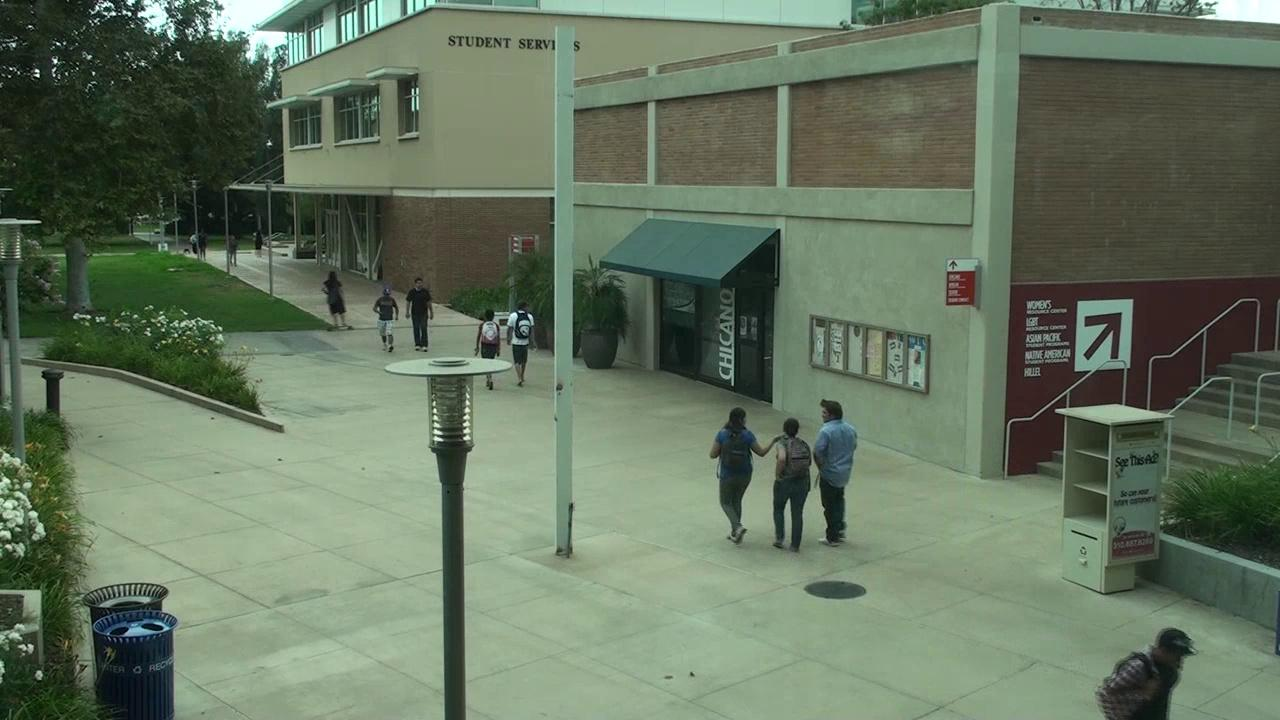person: (775, 400, 857, 546), (710, 407, 776, 543), (1098, 628, 1194, 719), (508, 301, 534, 385), (406, 277, 433, 351), (374, 288, 398, 351), (323, 271, 349, 329), (476, 310, 501, 358)
